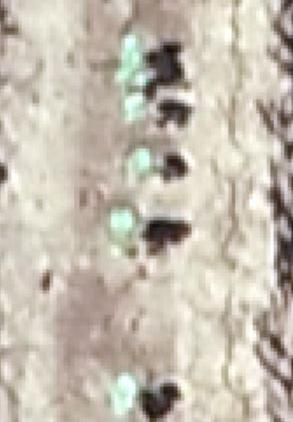cotton: (110, 371, 140, 414), (111, 207, 135, 238), (125, 92, 149, 120), (113, 71, 149, 87), (123, 37, 144, 64), (130, 150, 152, 174)
